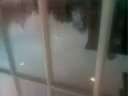window: (0, 27, 50, 96), (60, 81, 87, 96), (56, 47, 79, 59), (110, 82, 128, 96), (106, 57, 118, 69)
